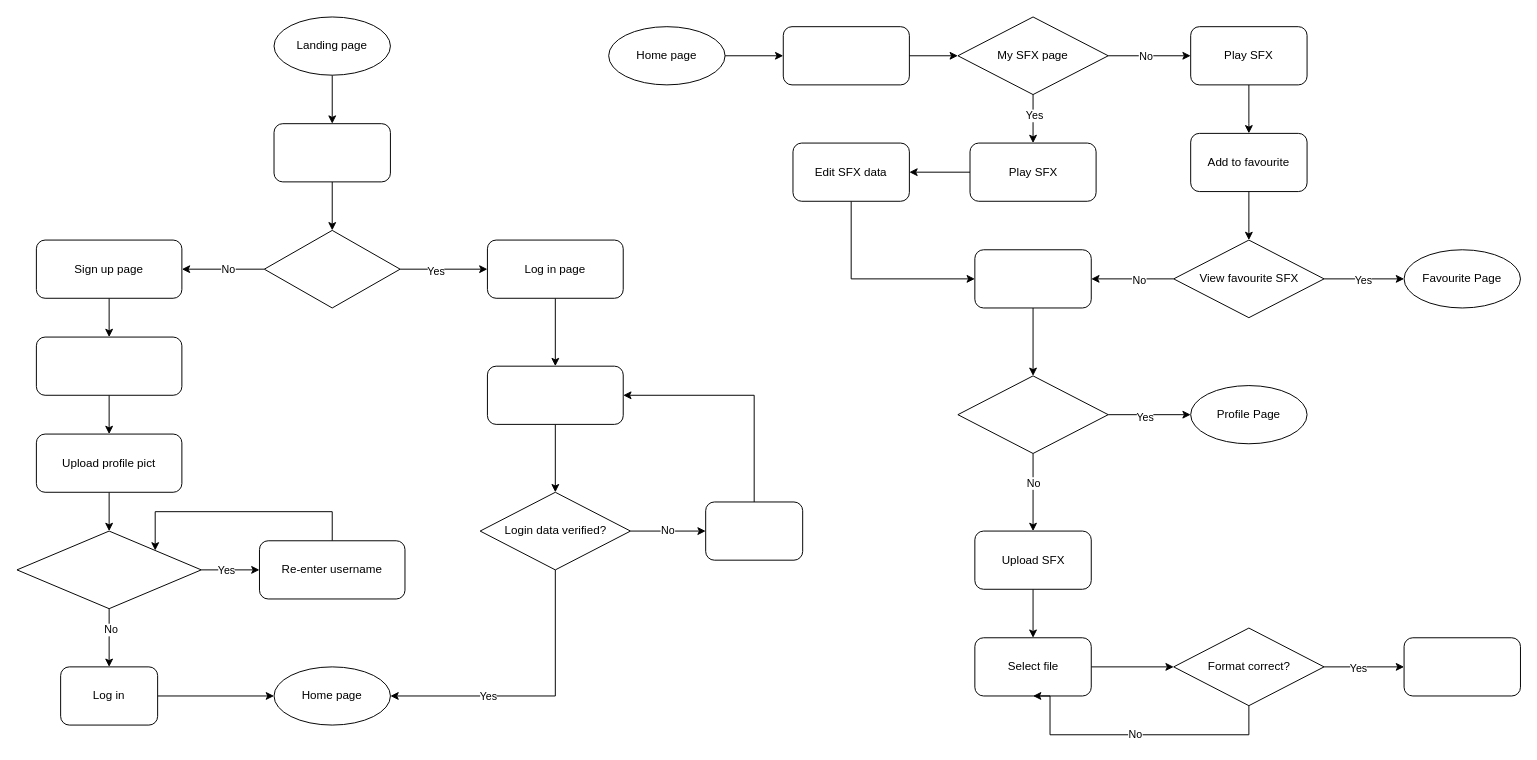
The diagram is 1537 pixels wide and 760 high, and some of its shapes have lost their labels. Here are the shapes that lost their labels. From the top down, the centre of each, then its label:
At (845,55): "Select SFX".
At (331,152): "View main feature".
At (331,268): "Registered?".
At (1032,278): "Download SFX".
At (108,365): "Enter name, username, email, and password".
At (554,394): "Enter username and password".
At (1032,414): "Edit profile data".
At (754,530): "Error pop up".
At (108,569): "Username already exist?".
At (1461,666): "SFX uploaded".
